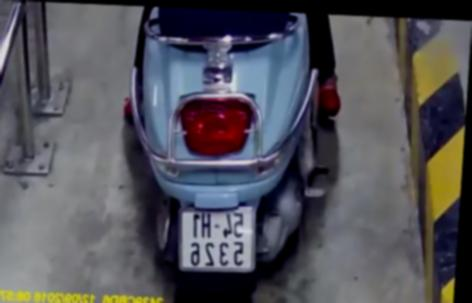License_Plate: (166, 198, 264, 276)
